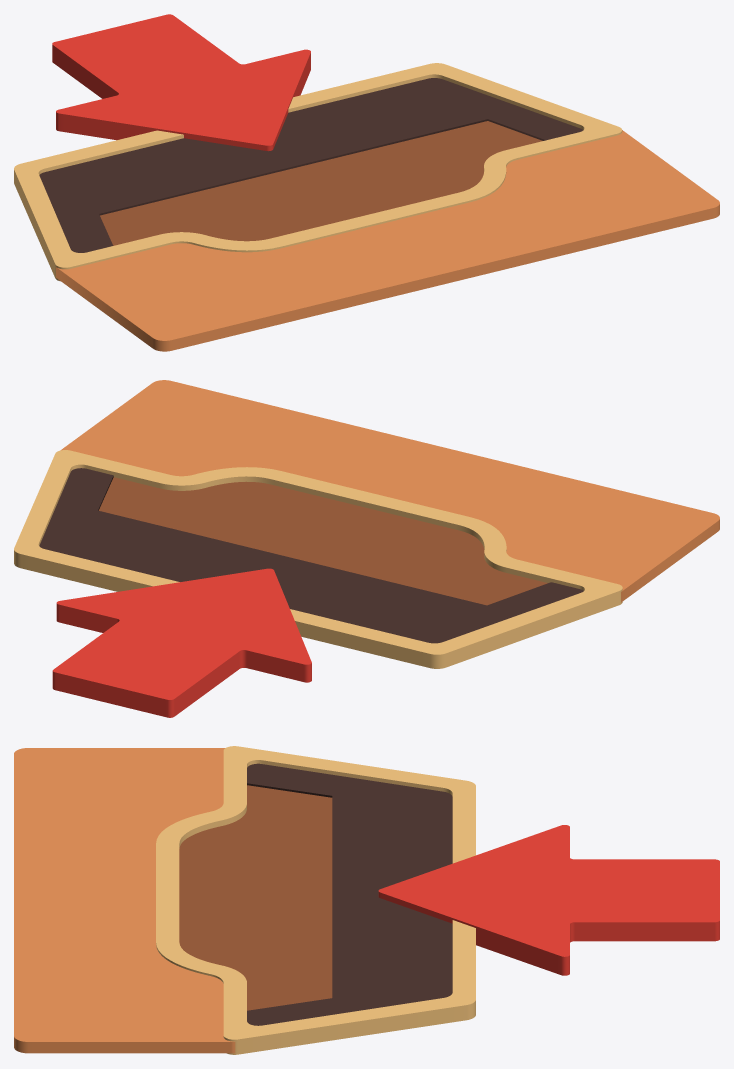
File: emoji_u1f4e5.glb
3 renders of one model, top to bottom at view 1: azimuth 30°, elevation 25°; view 2: azimuth 150°, elevation 25°; view 3: azimuth 270°, elevation 25°, orthographic. The views are drawn at different scales.
Parts seen in each view (by area): view 1: emoji_u1f4e5; view 2: emoji_u1f4e5; view 3: emoji_u1f4e5.
Boxes of the visible parts, x1,y1,x2,y2 form: emoji_u1f4e5: [14, 14, 719, 351]; emoji_u1f4e5: [14, 380, 719, 717]; emoji_u1f4e5: [14, 746, 719, 1054].
Size of the model in its own units: 0.0332 by 0.001 by 0.0337.
